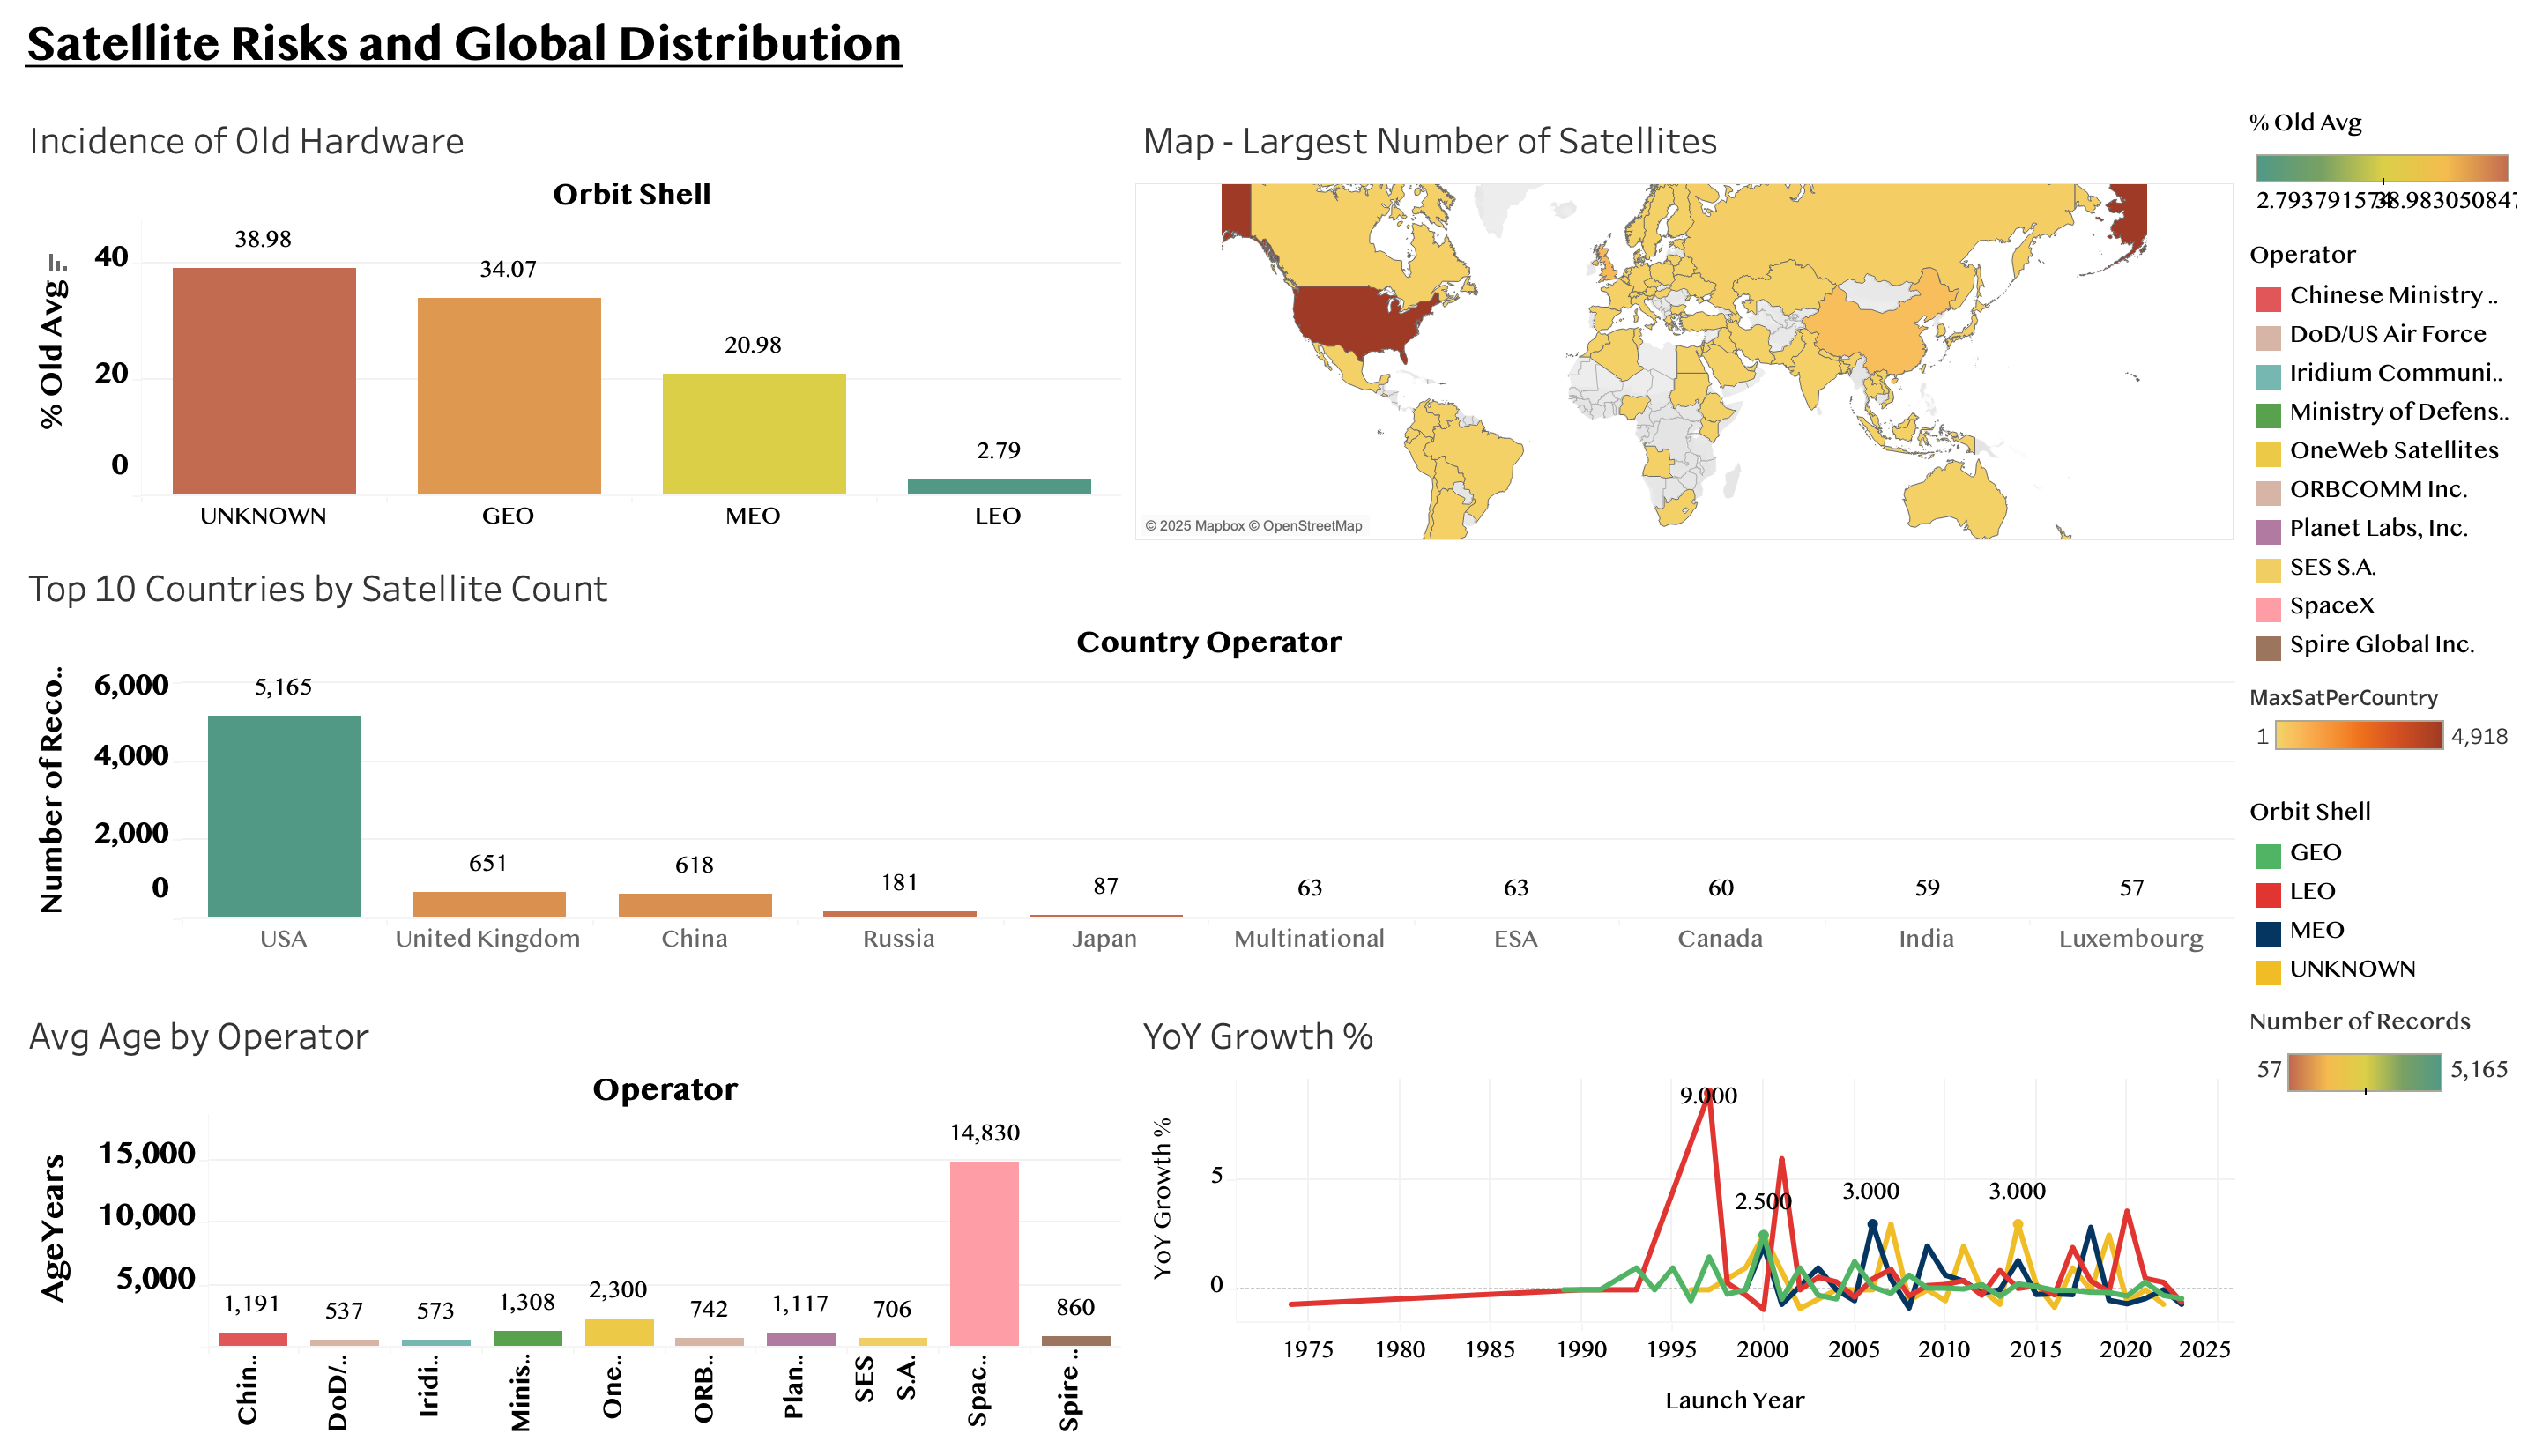

The page's visual inventory and layout, read from the dashboard file:
{"tool":"tableau","page":{"name":"Risk and Geography","canvas":[1000,1000],"units":"permille","ordinal":1},"visuals":[{"type":"title","box":[6.5,10.4,987,67.7]},{"type":"worksheet","title":"Incidence of Old Hardware","mark":"Automatic","rows":["Calculation_107030912649412611"],"cols":["orbit_shell"],"box":[6.5,78.1,428.4,303.8]},{"type":"worksheet","title":"Map - Largest Number of Satellites","mark":"Multipolygon","box":[434.9,78.1,428.4,303.8]},{"type":"legend","title":"Incidence of Old Hardware","param":"[federated.0dgbmoq1wu2m491dzvqni1kmtzp2].[usr:Calculation_107030912649412611:qk]","box":[863.3,78.1,130.2,97.7]},{"type":"legend","title":"Avg Age by Operator","param":"[federated.0dgbmoq1wu2m491dzvqni1kmtzp2].[none:operator:nk]","box":[863.3,175.8,130.2,326.8]},{"type":"worksheet","title":"Top 10 Countries by Satellite Count","mark":"Automatic","rows":["Calculation_7015623109764026377"],"cols":["country_operator"],"box":[6.5,381.9,856.8,303.8]},{"type":"legend","title":"Map - Largest Number of Satellites","param":"[federated.0dgbmoq1wu2m491dzvqni1kmtzp2].[sum:Calculation_343680999346376705:qk]","box":[863.3,502.6,130.2,84.6]},{"type":"legend","title":"YoY Growth % ","param":"[federated.0dgbmoq1wu2m491dzvqni1kmtzp2].[none:orbit_shell:nk]","box":[863.3,587.3,130.2,155]},{"type":"worksheet","title":"Avg Age by Operator","mark":"Automatic","rows":["Calculation_7015623109754609665"],"cols":["operator"],"box":[6.5,685.8,428.4,303.8]},{"type":"worksheet","title":"YoY Growth % ","mark":"Automatic","rows":["Calculation_7015623109764743178"],"cols":["launch_year"],"box":[434.9,685.8,428.4,303.8]},{"type":"legend","title":"Top 10 Countries by Satellite Count","param":"[federated.0dgbmoq1wu2m491dzvqni1kmtzp2].[sum:Calculation_7015623109764026377:qk","box":[863.3,742.2,130.2,97.7]}]}

Visuals, with their boxes on the dashboard's canvas, which has no fixed pixel size, in thousandths of its width and height (x1, y1, x2, y2). These are canvas units, not pixel positions in the 2535x1456 screenshot, which may show the page scaled, cropped or inside an application window:
title: 6:10:994:78
"Incidence of Old Hardware" worksheet: 6:78:435:382
"Map - Largest Number of Satellites" worksheet (Multipolygon marks): 435:78:863:382
"Incidence of Old Hardware" legend: 863:78:994:176
"Avg Age by Operator" legend: 863:176:994:503
"Top 10 Countries by Satellite Count" worksheet: 6:382:863:686
"Map - Largest Number of Satellites" legend: 863:503:994:587
"YoY Growth % " legend: 863:587:994:742
"Avg Age by Operator" worksheet: 6:686:435:990
"YoY Growth % " worksheet: 435:686:863:990
"Top 10 Countries by Satellite Count" legend: 863:742:994:840
